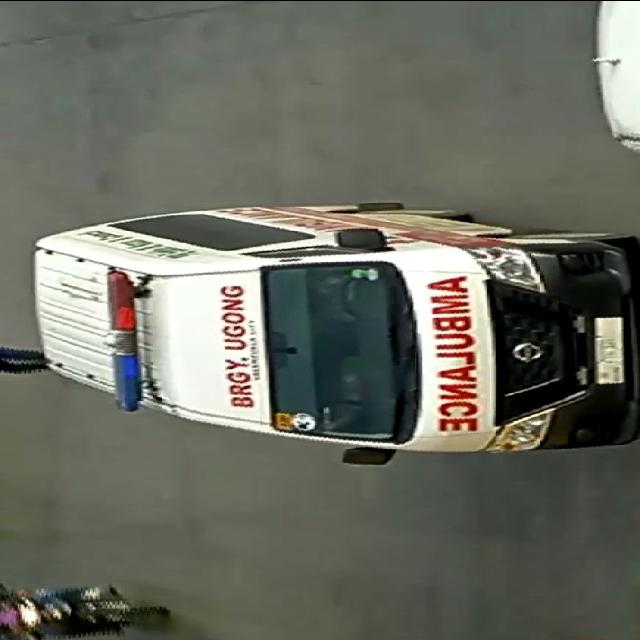emergency: (30, 201, 632, 468)
